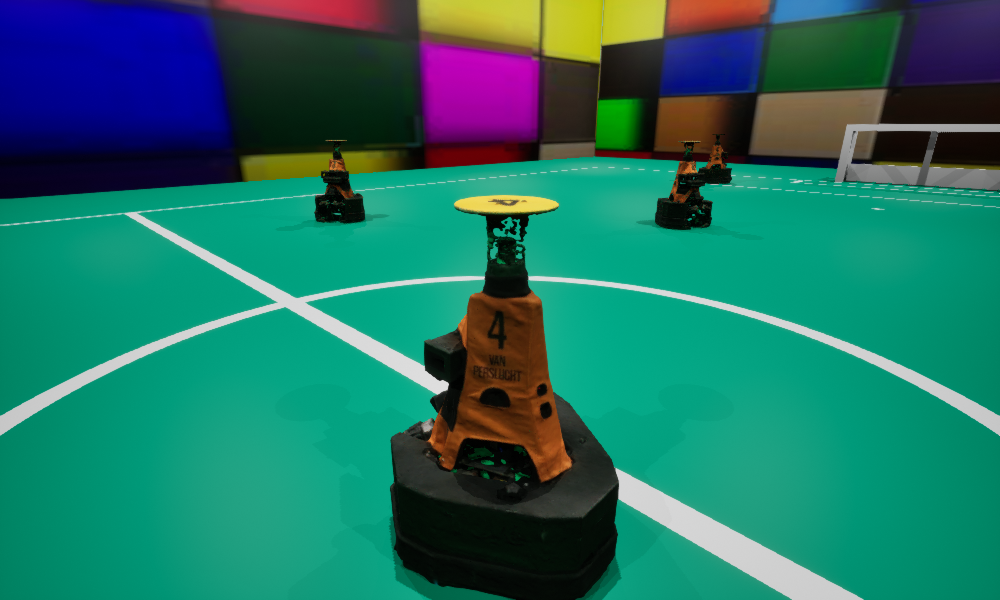0 orange robot TechUnited: (390, 195, 618, 599), (655, 141, 712, 229), (314, 140, 364, 221), (698, 134, 731, 183)
